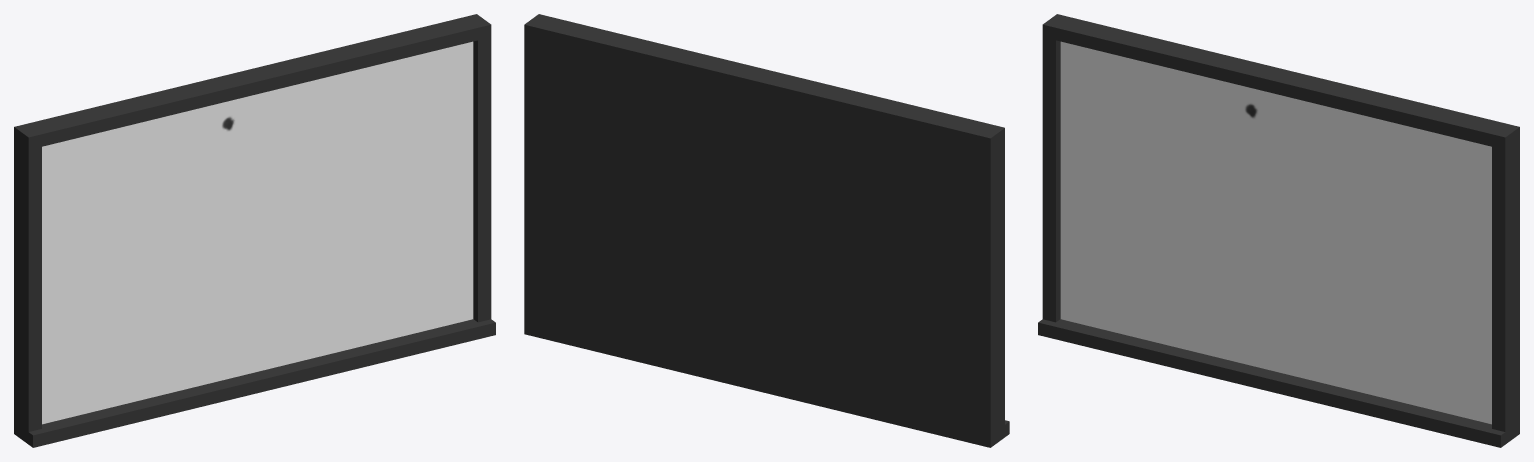
Rendered from chalkboard.FBX.
3 views of the same model, side by side, from view 1: azimuth 30°, elevation 25°; view 2: azimuth 150°, elevation 25°; view 3: azimuth 330°, elevation 25° (orthographic).
Parts seen in each view (by area): view 1: Box001; view 2: Box001; view 3: Box001.
Part boxes in pixels (left/top/right/bottom): Box001: left=14, top=14, right=495, bottom=447; Box001: left=524, top=14, right=1009, bottom=447; Box001: left=1038, top=14, right=1519, bottom=447.
Bounding box in the file's own units: 118 × 8.39 × 74.87.
